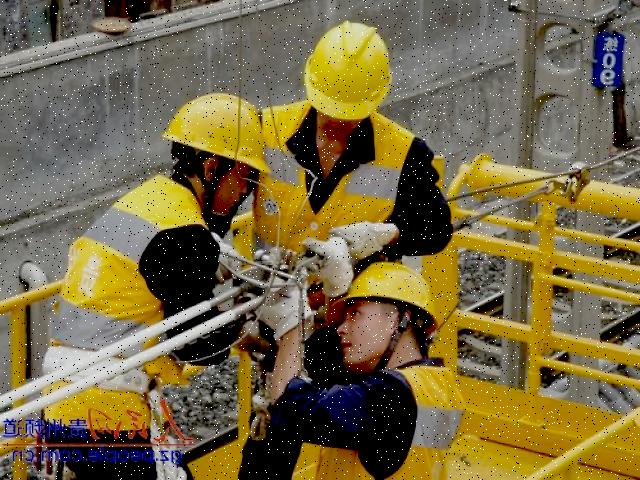Helmet: (298, 13, 398, 123), (164, 89, 277, 186), (324, 256, 444, 342)
